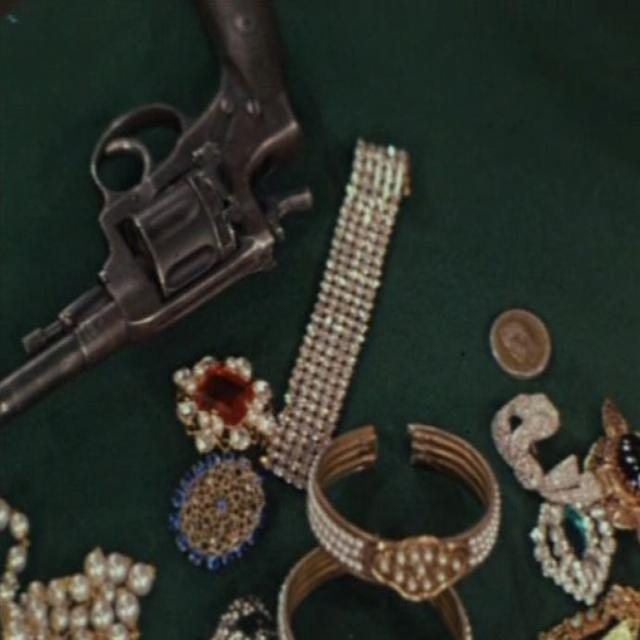gun-knife-thesis - v11 Yolov5 augmented: (5, 5, 327, 433)
